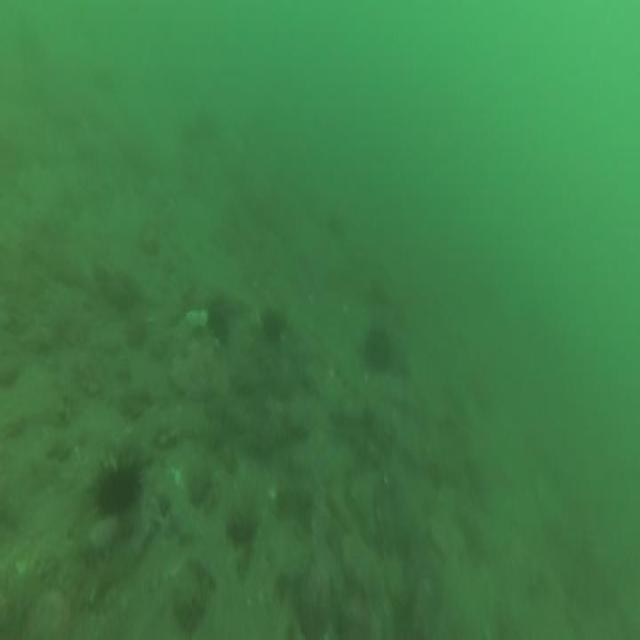echinus: (93, 442, 144, 520), (362, 321, 396, 376), (203, 302, 233, 352), (260, 300, 286, 351)
